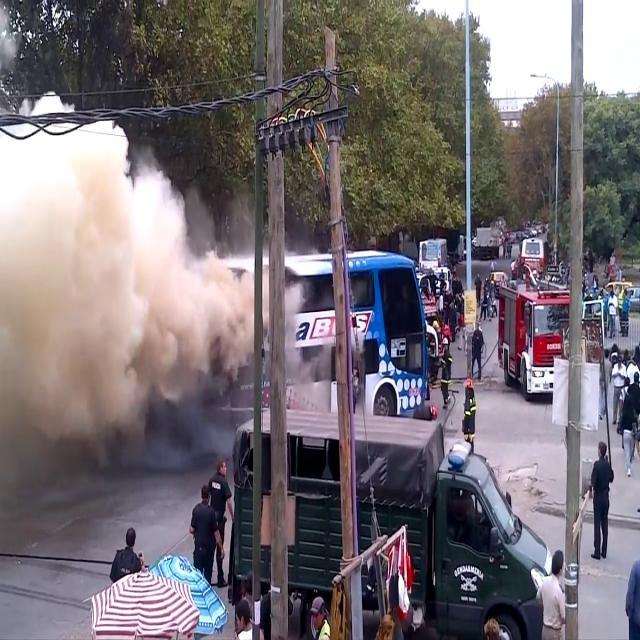Smoke: (0, 118, 248, 552)
